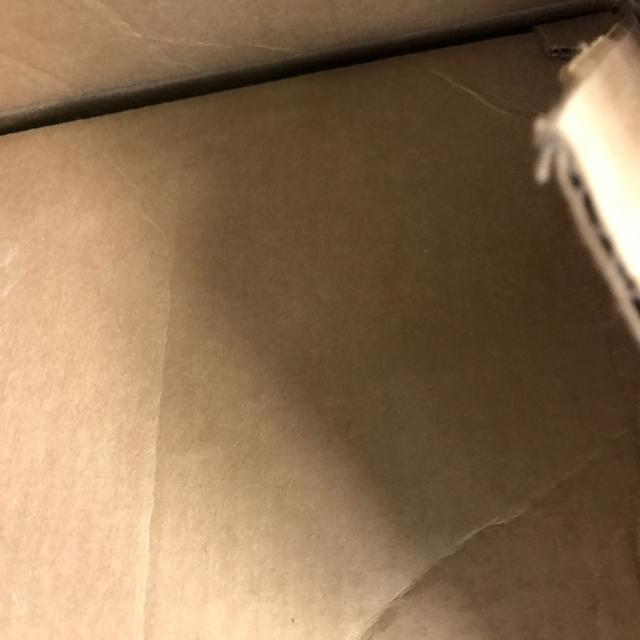cardboard: (1, 9, 638, 639)
